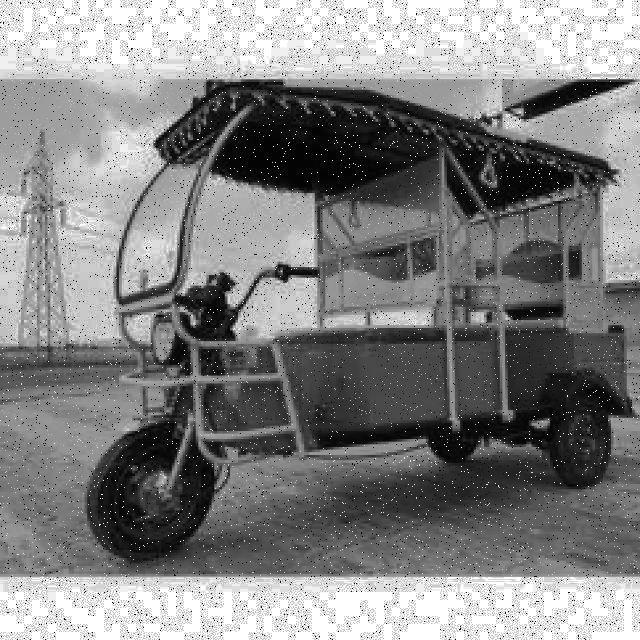Toto: (89, 80, 637, 563)
